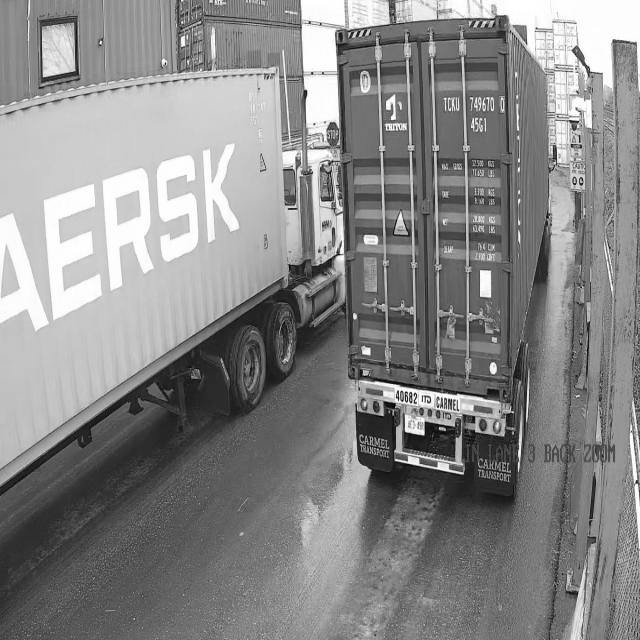container_company_logo: (384, 90, 409, 135)
container_number: (439, 85, 506, 144)
license_plate: (405, 415, 428, 433)
truck_with_container: (0, 67, 346, 494), (336, 16, 550, 494)
